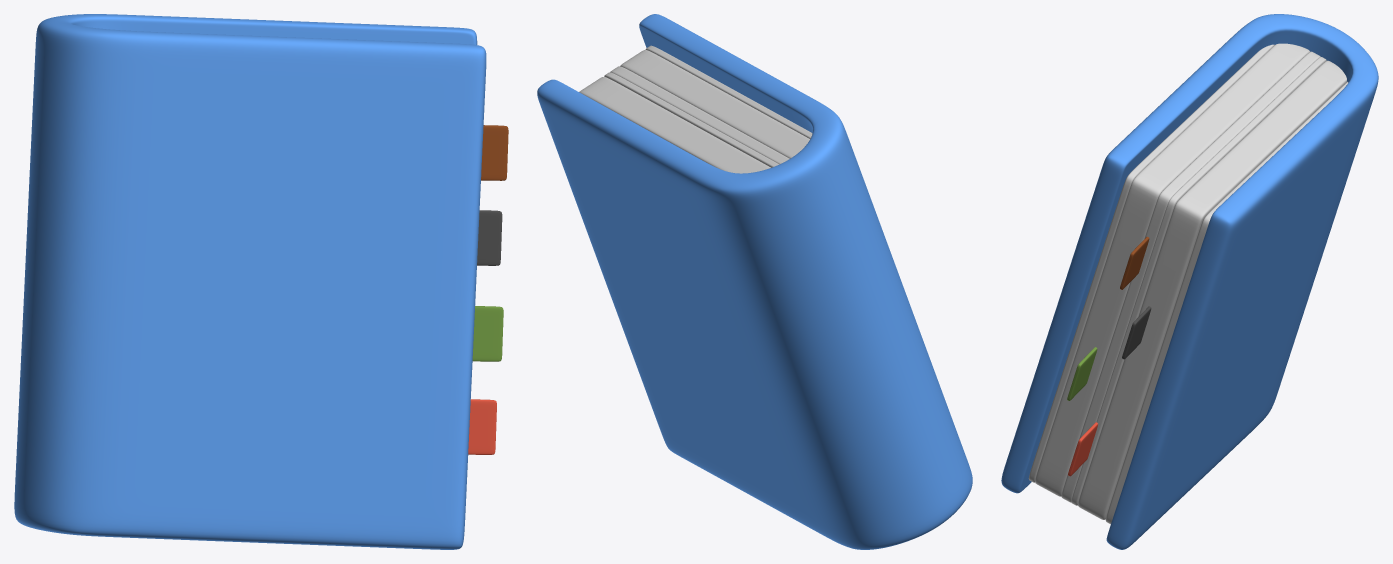
File: book.glb
The picture shows the model from 3 angles, left to right: view 1: azimuth 30°, elevation 25°; view 2: azimuth 150°, elevation 25°; view 3: azimuth 270°, elevation 25°; orthographic projection. The views are drawn at different scales.
Visible parts, largest first — view 1: Cube.006, Plane.008, Plane.009, Plane.006, Plane.007; view 2: Cube.006, Cube.007; view 3: Cube.006, Cube.007, Plane.008, Plane.009, Plane.007, Plane.006.
Part boxes in pixels (<box>): Cube.006: <box>14,14,486,549</box>; Plane.008: <box>472,306,503,361</box>; Plane.009: <box>468,399,496,454</box>; Plane.006: <box>481,125,508,180</box>; Plane.007: <box>477,210,502,265</box>; Cube.006: <box>537,14,972,549</box>; Cube.007: <box>579,45,812,173</box>; Cube.006: <box>1001,14,1378,549</box>; Cube.007: <box>1028,43,1348,524</box>; Plane.008: <box>1067,347,1097,400</box>; Plane.009: <box>1068,422,1098,476</box>; Plane.007: <box>1122,306,1151,359</box>; Plane.006: <box>1120,236,1149,289</box>.
Bounding box in the file's own units: 16.12 × 16.72 × 13.48.
